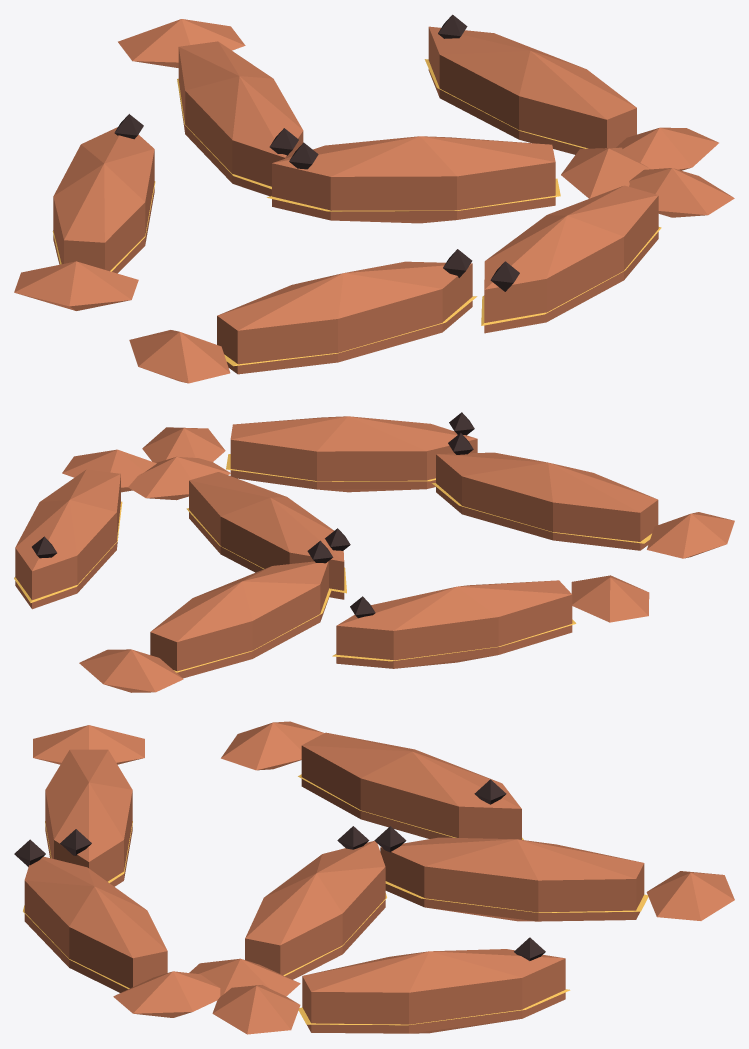
Rendered from anchovy-cooked.glb.
The picture shows the model from 3 angles, top to bottom: view 1: azimuth 30°, elevation 25°; view 2: azimuth 150°, elevation 25°; view 3: azimuth 270°, elevation 25°; orthographic projection. The views are drawn at different scales.
Visible parts, largest first — view 1: anchovy-cooked; view 2: anchovy-cooked; view 3: anchovy-cooked.
Boxes of the visible parts, bbox=[...] form: anchovy-cooked: bbox=[14, 14, 734, 383]; anchovy-cooked: bbox=[14, 412, 734, 692]; anchovy-cooked: bbox=[14, 721, 734, 1034].
Bounding box in the file's own units: 0.2293 × 0.029 × 0.2232.
1 material, 1 textured.
